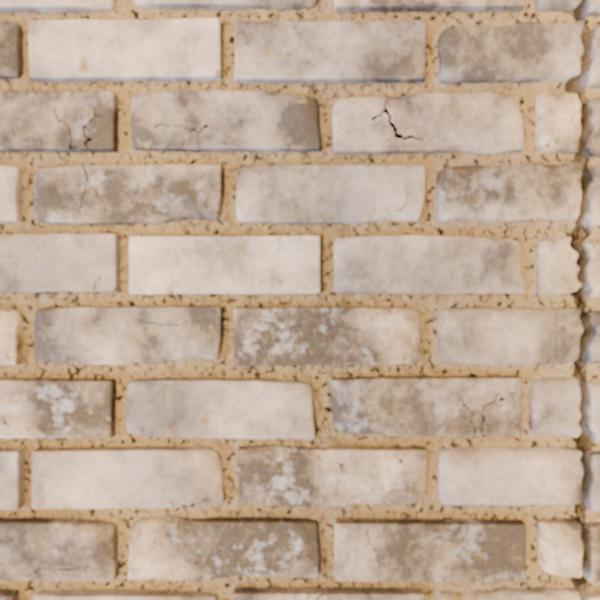brick: (29, 18, 221, 81), (334, 519, 524, 581), (129, 517, 318, 579), (235, 21, 425, 82), (32, 447, 224, 507), (332, 93, 523, 153), (131, 91, 319, 151), (238, 446, 426, 506), (331, 377, 520, 435), (126, 379, 314, 437), (34, 165, 222, 223), (237, 165, 424, 223), (129, 236, 319, 293), (334, 236, 523, 293), (234, 307, 421, 364), (34, 307, 221, 363), (0, 518, 118, 580), (0, 91, 117, 151), (0, 234, 119, 291), (0, 379, 115, 437), (334, 0, 524, 11), (233, 588, 422, 599), (33, 590, 218, 599), (134, 0, 318, 9), (0, 0, 115, 12), (0, 449, 23, 508), (0, 21, 22, 78), (0, 166, 21, 221), (0, 309, 21, 363), (0, 590, 18, 599)
broken_brick: (436, 21, 582, 83), (435, 162, 580, 223), (437, 447, 581, 506), (437, 306, 581, 365), (527, 376, 579, 437), (534, 92, 579, 154), (535, 517, 581, 577), (533, 236, 578, 294), (435, 586, 578, 599), (586, 521, 599, 584), (586, 25, 599, 88), (585, 241, 599, 298), (587, 450, 599, 511), (588, 166, 599, 227), (588, 96, 599, 157), (589, 382, 599, 442), (588, 311, 599, 364), (534, 0, 578, 12), (586, 0, 599, 17), (588, 591, 599, 599)
crack: (564, 0, 597, 599), (77, 165, 102, 215), (480, 391, 508, 435), (459, 395, 476, 436), (169, 497, 214, 509), (92, 255, 103, 291), (315, 592, 324, 599), (305, 592, 310, 599), (112, 286, 117, 291)
